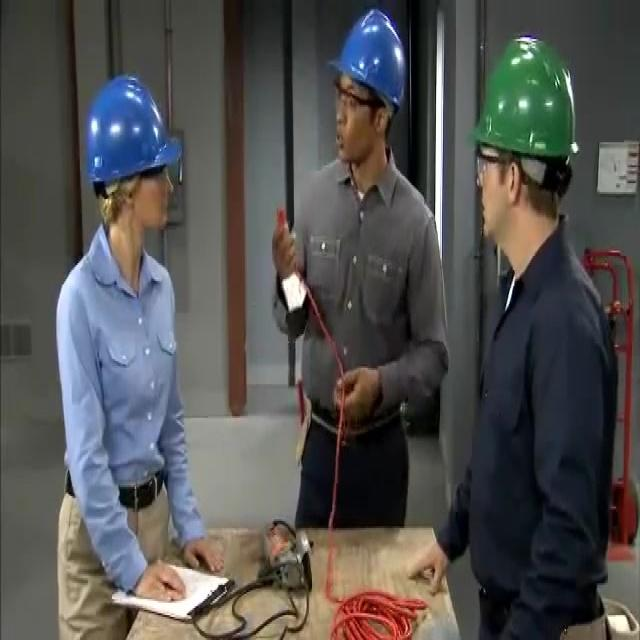helmet: (469, 42, 582, 218), (87, 97, 183, 252), (326, 8, 407, 152)
